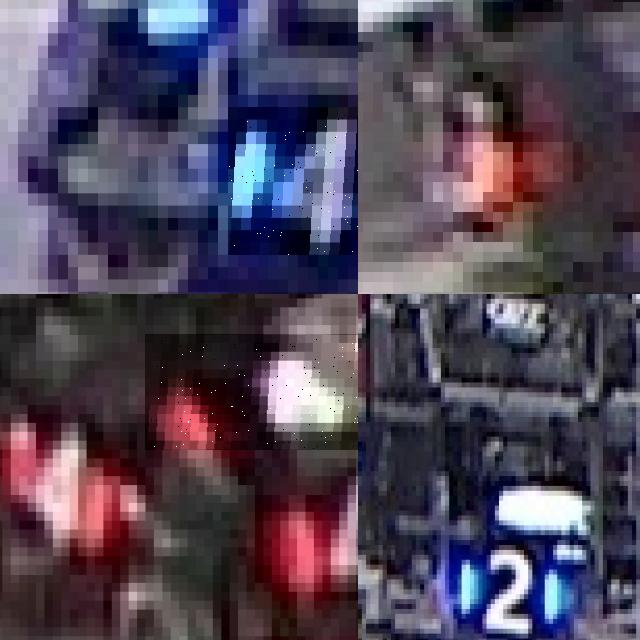B2: (454, 535, 562, 634)
B4: (228, 107, 358, 254)
R4: (145, 334, 358, 449), (0, 409, 124, 560), (263, 458, 358, 591)
